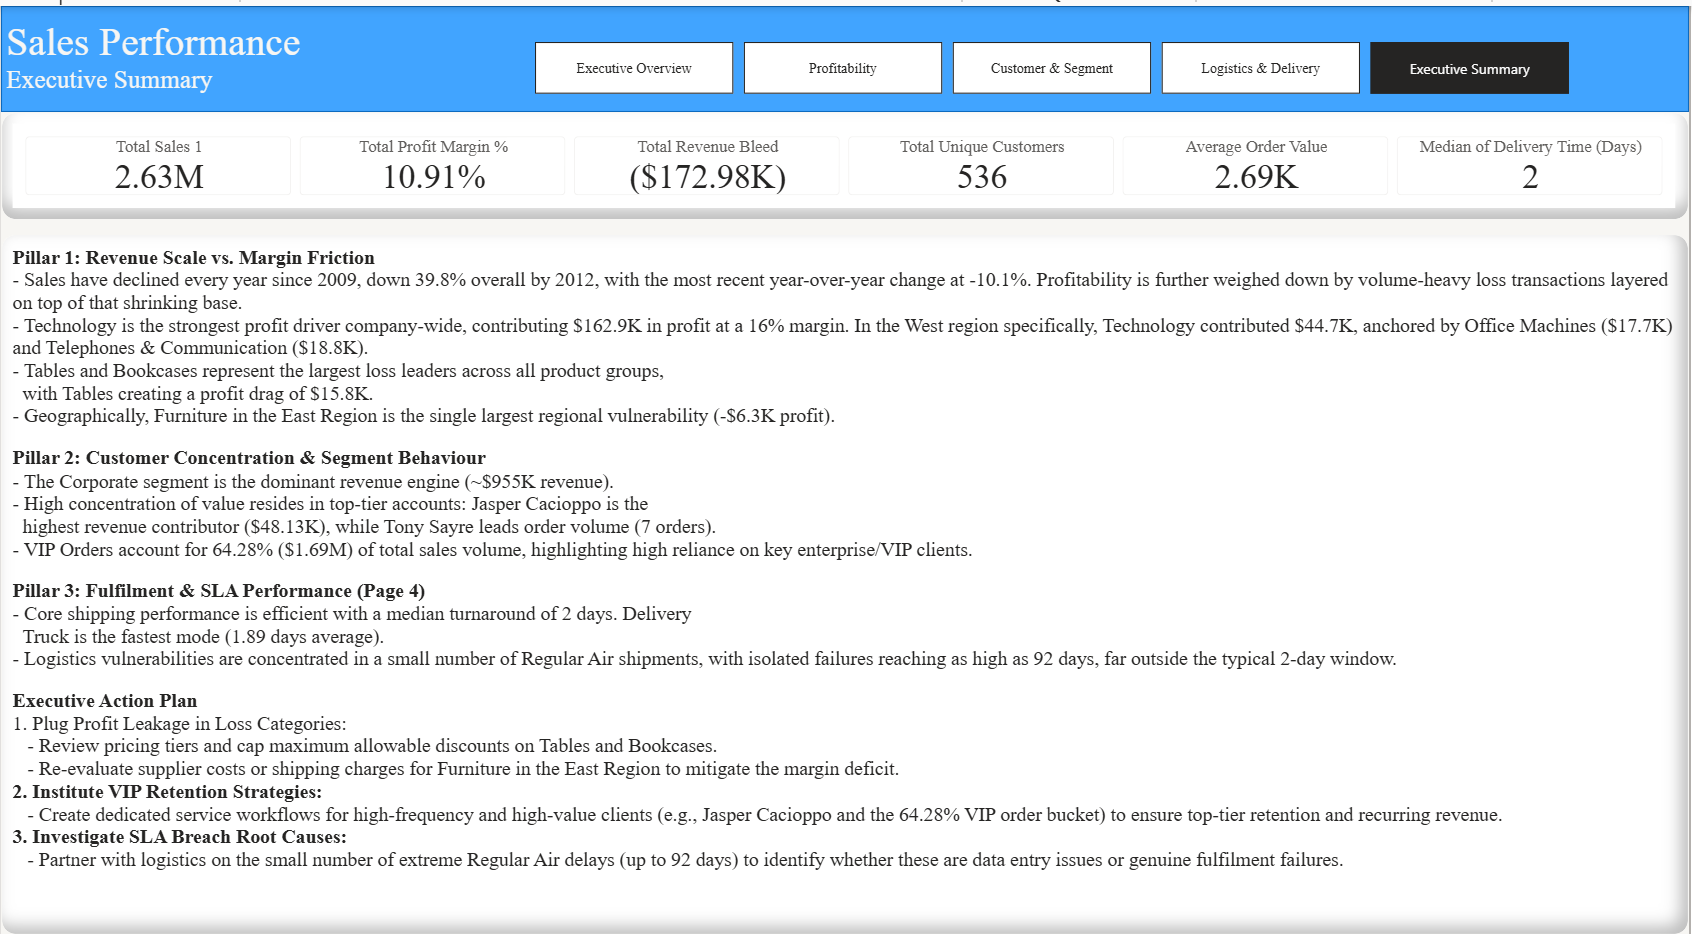

What the dashboard file says about the page in this screenshot:
{"tool":"powerbi","page":{"name":"Executive Summary","canvas":[1600,900],"ordinal":4},"visuals":[{"type":"shape","box":[0,0,1600,100.5],"z":0},{"type":"textbox","box":[0,7.1,480.5,108.9],"z":1000},{"type":"pageNavigator","box":[506.2,34.1,982,49.3],"z":2000},{"type":"cardVisual","fields":{"Data":["Working Sheet.Total Sales 1","Working Sheet.Total Profit Margin %","Working Sheet.Total Revenue Bleed","Working Sheet.Total Unique Customers","Working Sheet.Avg Order Value 1","Median(Working Sheet.Delivery Time (Days))"]},"box":[0,100.5,1600,102.4],"z":3000},{"type":"textbox","box":[0,216.1,1600,663.5],"z":4000}]}

Visuals, with their boxes in screenshot pixels (x1, y1, x2, y2), scaled from the page's 1600x900 canvas onto the 1692x934 screenshot:
shape: 0 0 1691 104
textbox: 0 7 508 120
pageNavigator: 535 35 1574 87
cardVisual - Working Sheet.Total Sales 1 x Working Sheet.Total Profit Margin %: 0 104 1691 211
textbox: 0 224 1691 913
